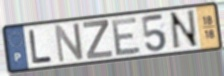5: (140, 12, 169, 54)
E: (110, 15, 143, 58)
L: (27, 28, 54, 66)
N: (168, 8, 201, 52), (53, 21, 86, 65)
Z: (82, 19, 115, 61)
